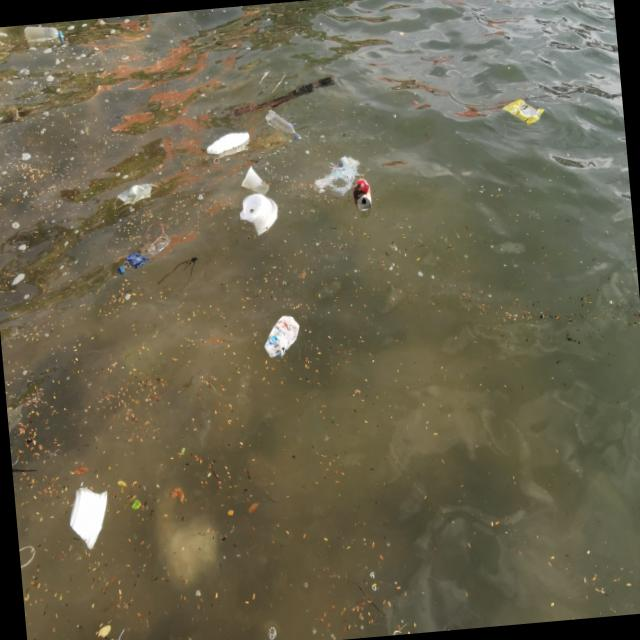can: (354, 179, 374, 216)
foam: (68, 485, 112, 555), (239, 192, 281, 240), (206, 129, 252, 163)
plastic bag: (505, 96, 546, 125)
plastic bottle: (116, 235, 173, 276), (265, 108, 303, 144), (24, 24, 65, 45)
